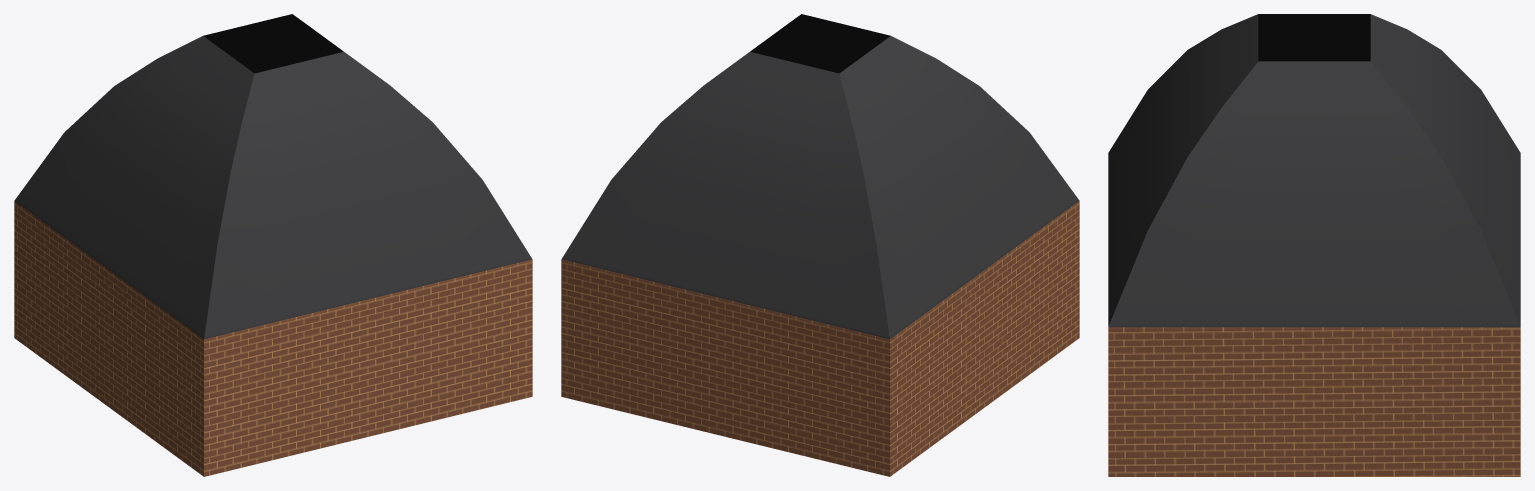
Rendered from mediumTop.fbx.
The picture shows the model from 3 angles, left to right: view 1: azimuth 30°, elevation 25°; view 2: azimuth 150°, elevation 25°; view 3: azimuth 270°, elevation 25°; orthographic projection. The views are drawn at different scales.
Visible parts, largest first — view 1: pCube2; view 2: pCube2; view 3: pCube2.
Boxes of the visible parts, x1,y1,x2,y2 form: pCube2: (14,14,532,476); pCube2: (561,14,1079,476); pCube2: (1108,14,1520,476).
Bounding box in the file's own units: 10 × 9.42 × 10.
Materials: 1 (1 with a texture image).
